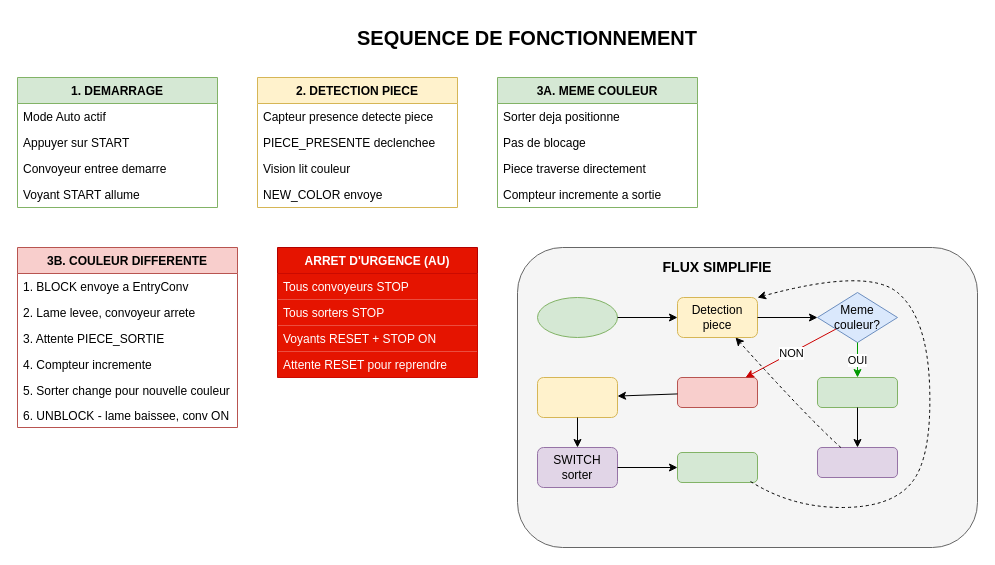
Image size: 995x565. Some labels were removed from this diagram. The centre of each missing label's shape, as x and y in pixels:
Attente sortie: (577,397)
BLOCK: (717,392)
Compteur++: (857,462)
Continue: (857,392)
Demarrage: (577,317)
UNBLOCK: (717,467)
